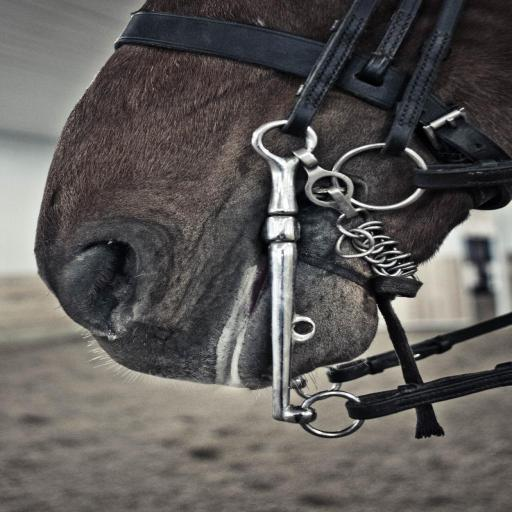horse: (27, 0, 511, 392)
